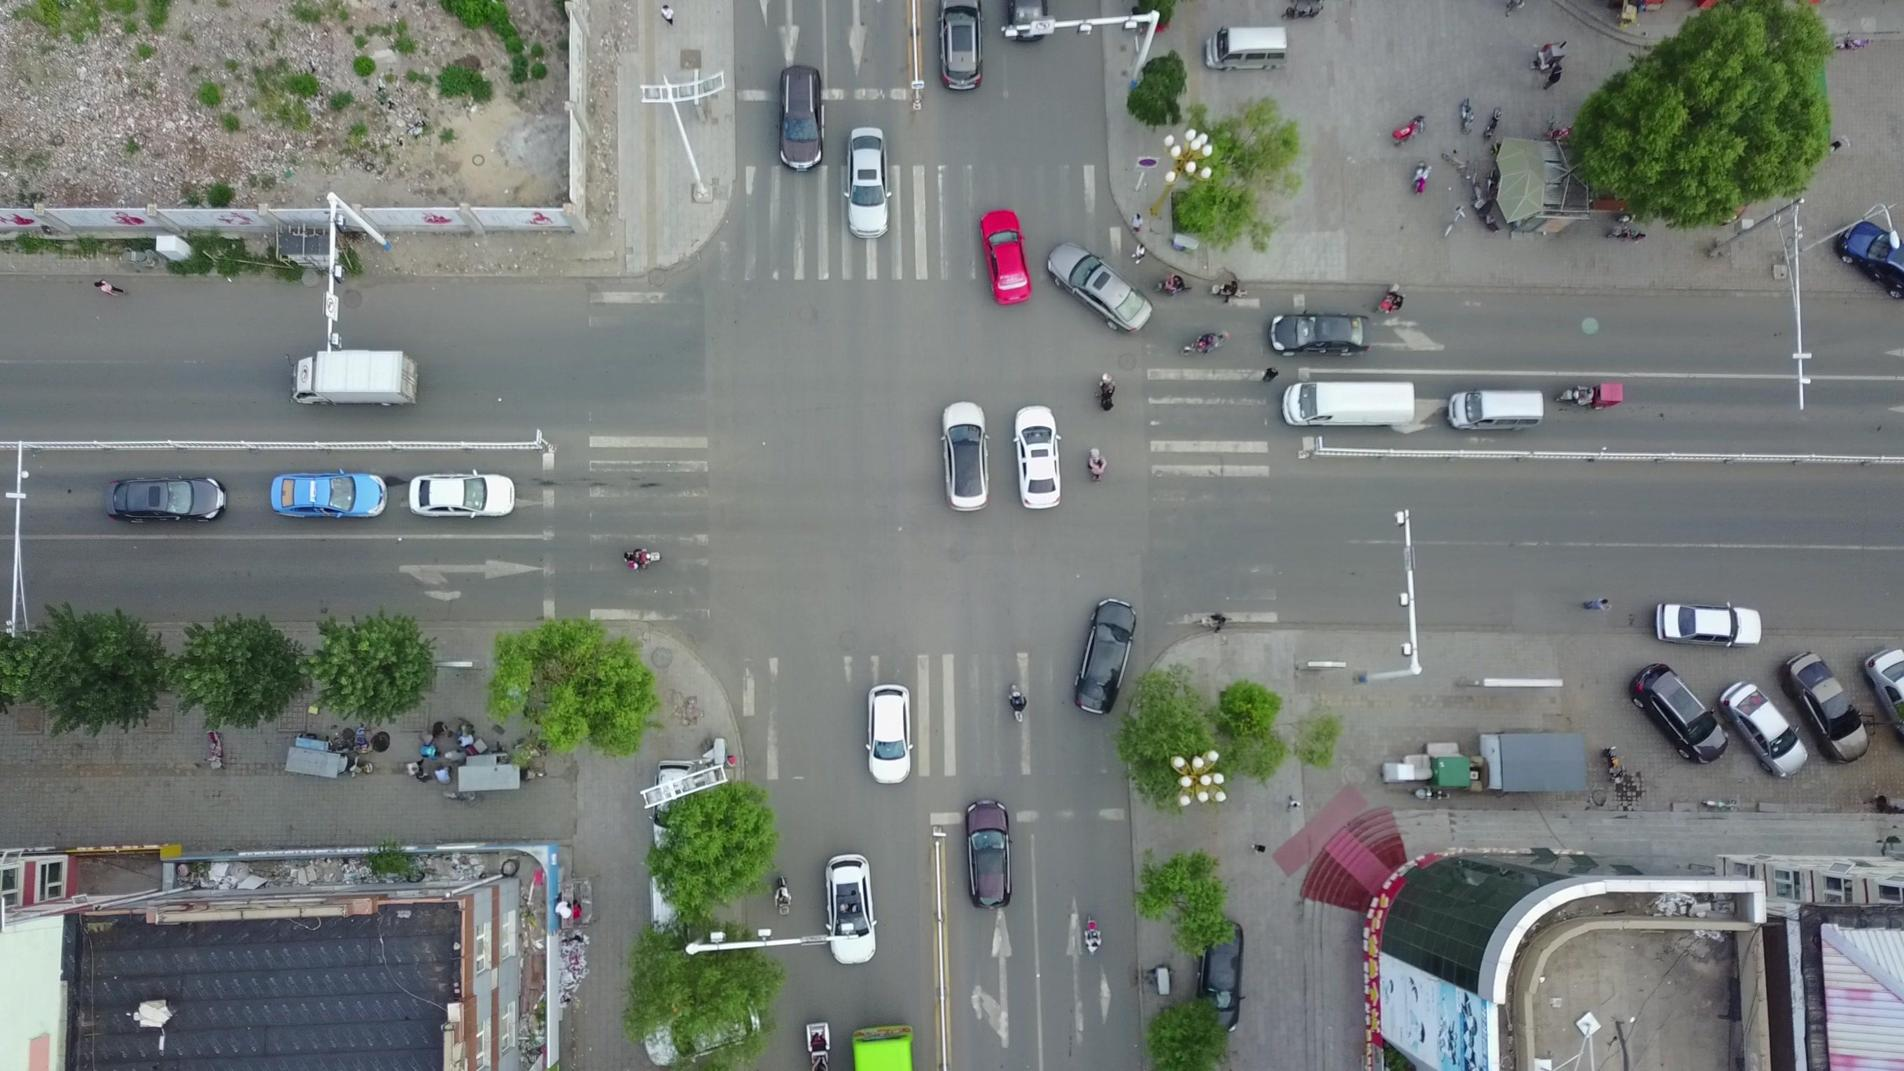bus: (1275, 378, 1414, 430), (850, 1015, 921, 1070)
car: (1622, 658, 1726, 764), (1776, 647, 1870, 765), (1046, 235, 1152, 333), (1716, 675, 1811, 775), (1070, 598, 1147, 718), (271, 466, 394, 524), (101, 473, 231, 524), (959, 795, 1016, 909), (935, 404, 993, 517), (821, 851, 877, 965), (772, 68, 828, 180), (840, 124, 893, 241), (1187, 915, 1241, 1028), (977, 207, 1036, 306), (860, 670, 914, 777), (1010, 405, 1061, 517), (409, 469, 517, 522), (1646, 599, 1758, 649), (1829, 222, 1901, 298), (1266, 309, 1374, 358), (1441, 388, 1540, 438), (1199, 21, 1288, 73), (932, 7, 985, 93), (998, 0, 1057, 46)
motor: (1006, 677, 1029, 730), (620, 545, 663, 571), (1370, 276, 1399, 314), (1407, 156, 1431, 197), (766, 874, 789, 915)
truck: (285, 343, 417, 411)
